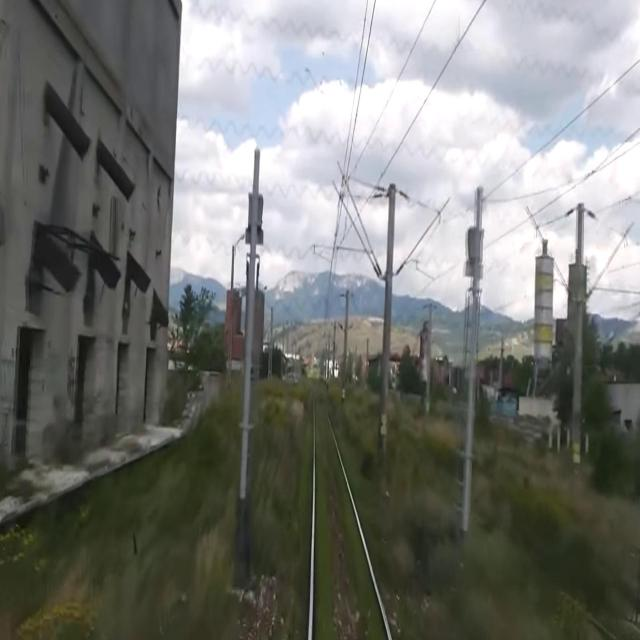rail-track: (314, 402, 386, 639)
